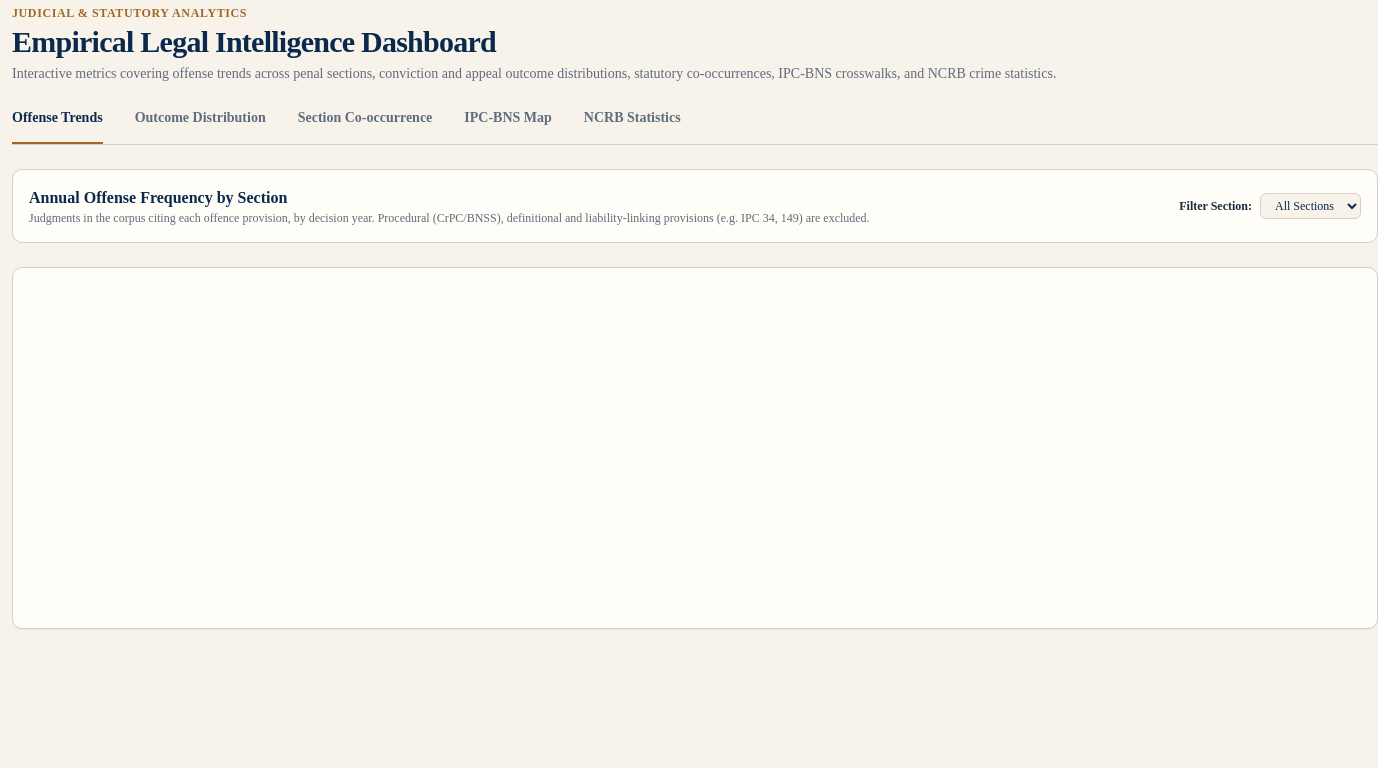
Test case: Professional Analytics Dashboard › shows each mapping row source and "Not specified" for a missing change type
Expected: the element with test id "tab-offense-trends" is shown, [12,169,1377,629]
Click the button "IPC-BNS Map" at point(508, 126), box [464,108,552,144]
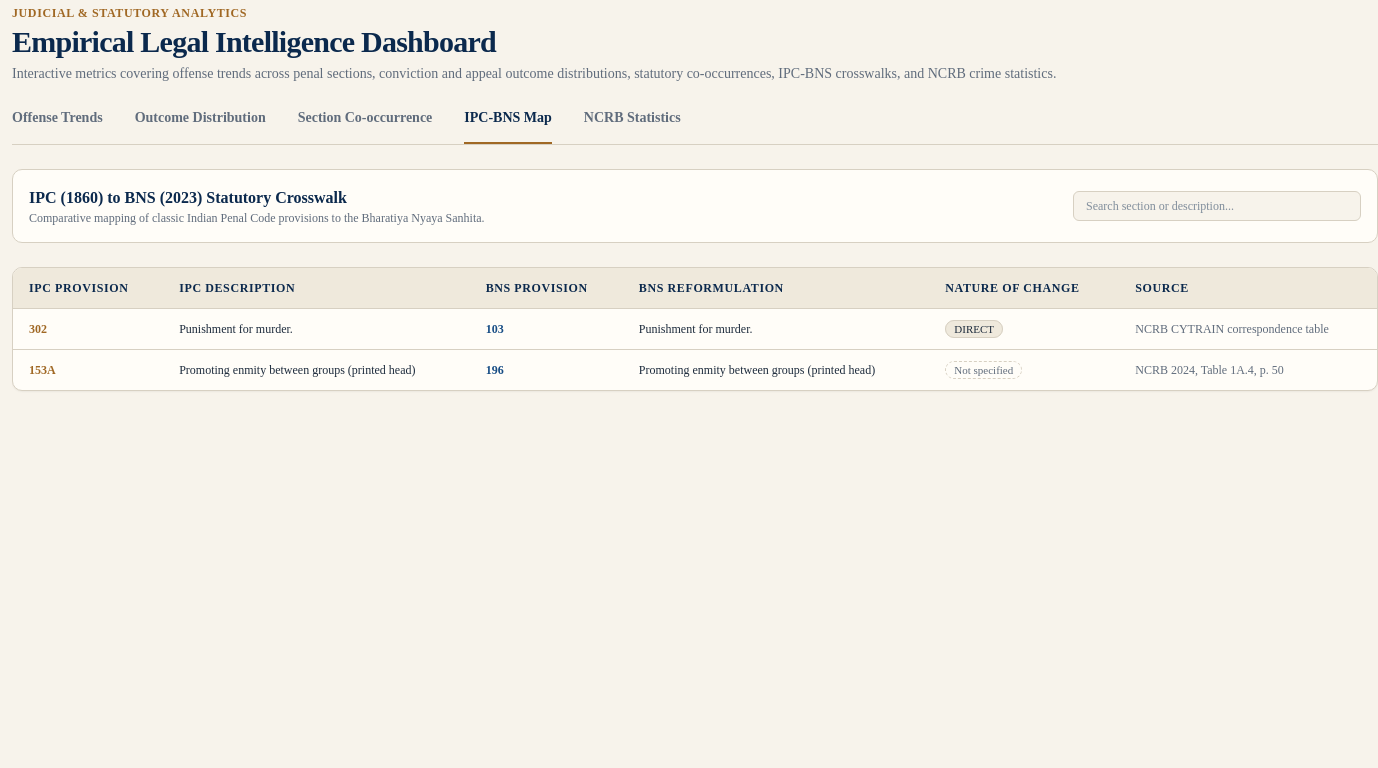
Result: the elements with test id "mapping-source" read "NCRB CYTRAIN correspondence table", "NCRB 2024, Table 1A.4, p. 50", in this order at [1119,308,1377,350]; [1119,350,1377,390]
Result: the text "DIRECT" is shown at [945,320,1003,338]
Result: the text with test id "change-type-not-specified" reads "Not specified" at [954,364,1013,376]
The search handles the null change type and matches the source and "Not specified".
Type "table 1a.4" into the search field with placeholder "Search section or description..." at point(1217, 206), box [1073,191,1361,221]
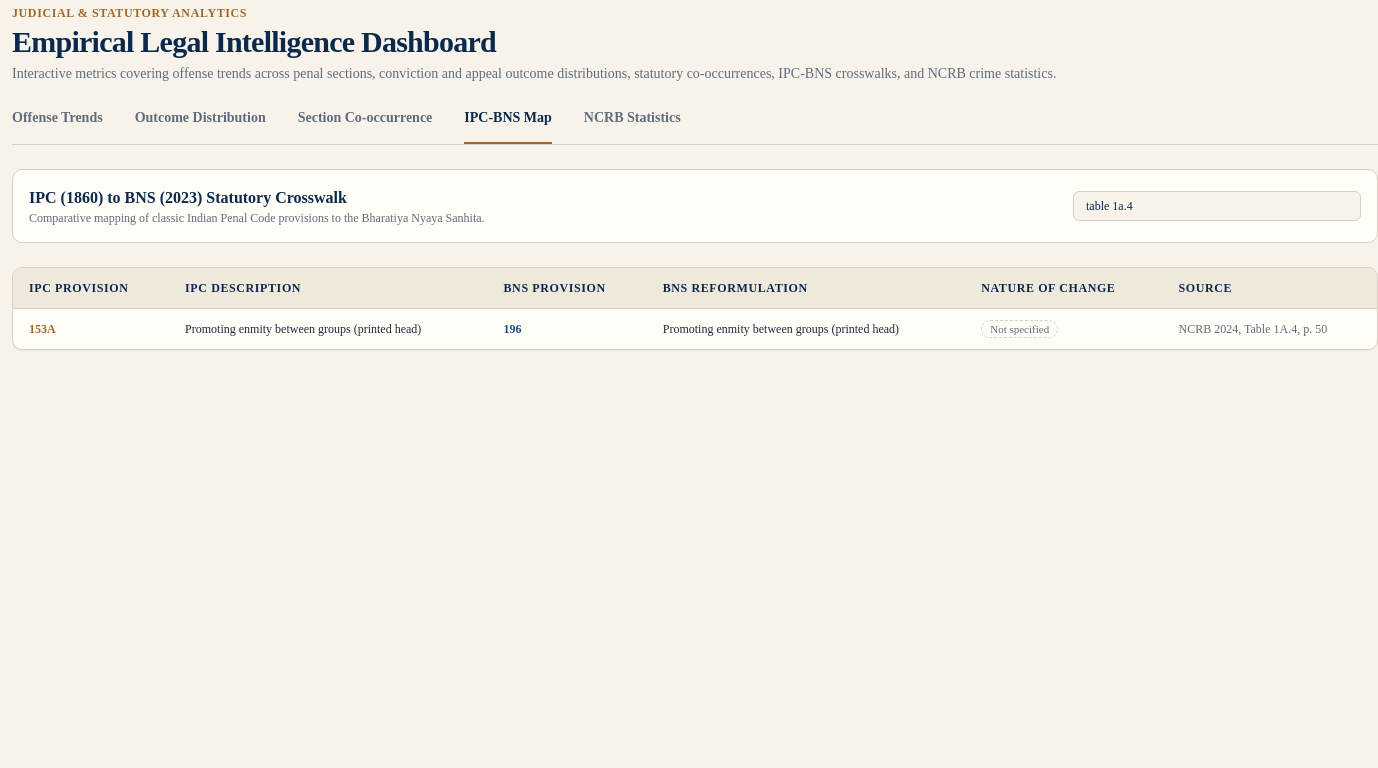
Result: the elements with test id "mapping-source" read "NCRB 2024, Table 1A.4, p. 50", in this order at [1163,308,1377,349]
Replace the text in the search field with placeholder "Search section or description..." with "not specified" at point(1217, 206), box [1073,191,1361,221]
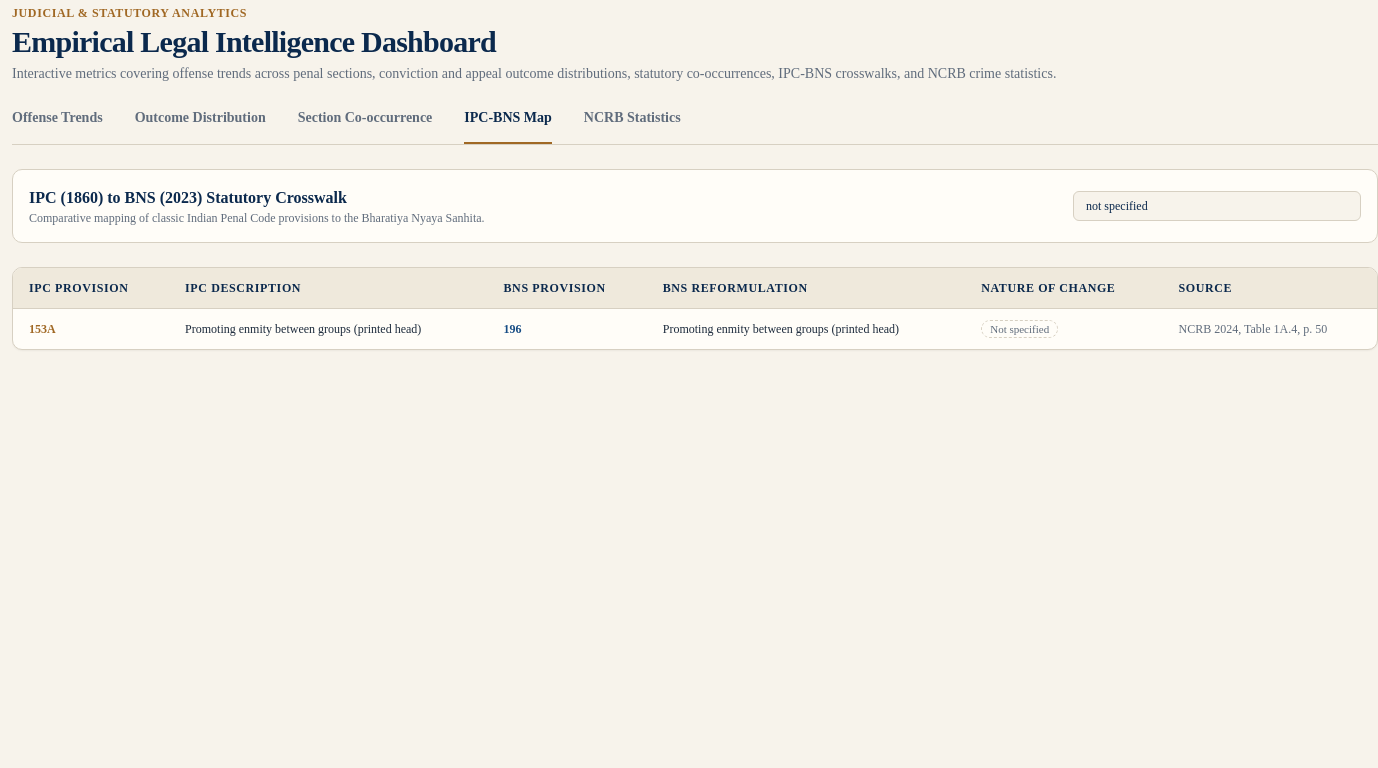
Expected: the text "302" is not shown
Result: the text "153A" is shown at [13,308,169,349]
Replace the text in the search field with placeholder "Search section or description..." with "direct" at point(1217, 206), box [1073,191,1361,221]
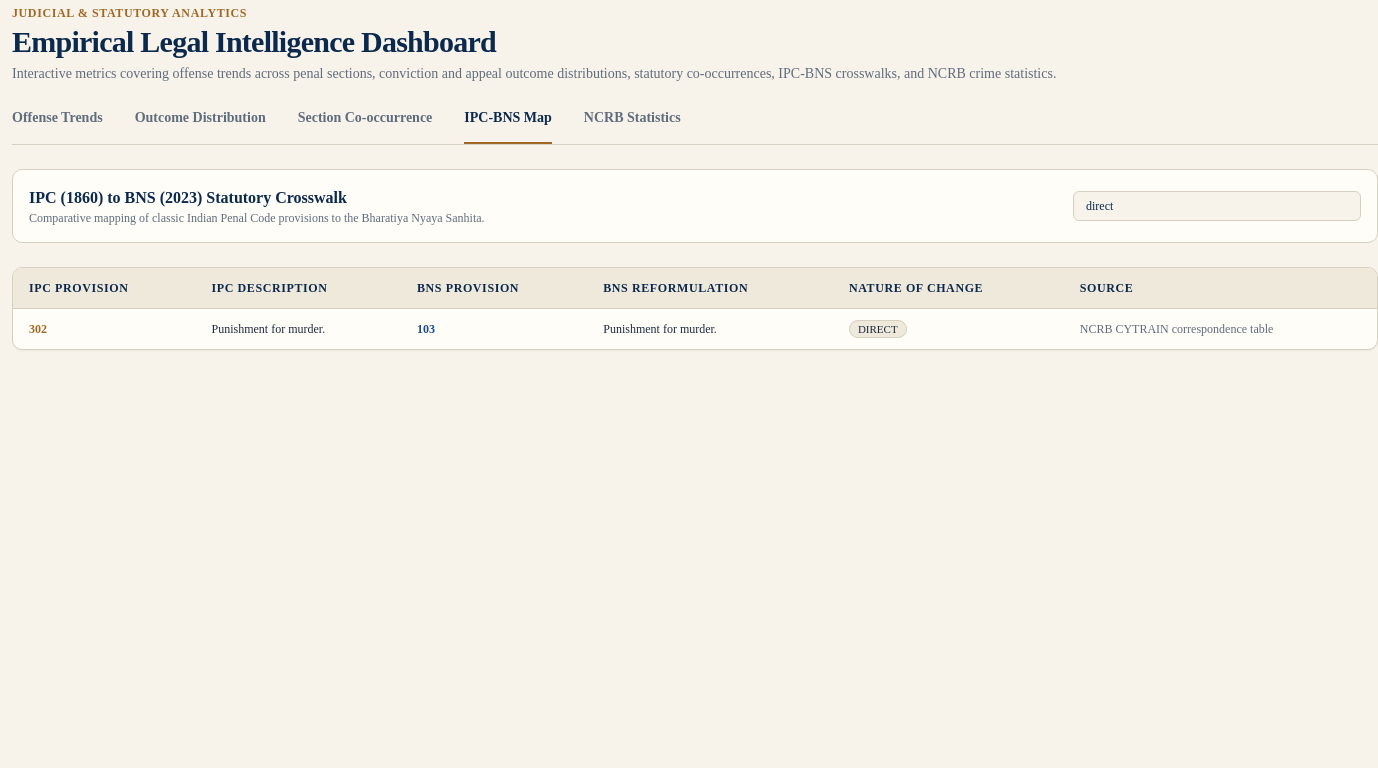
Result: the text "302" is shown at [13,308,196,349]
Result: the text "153A" is gone
